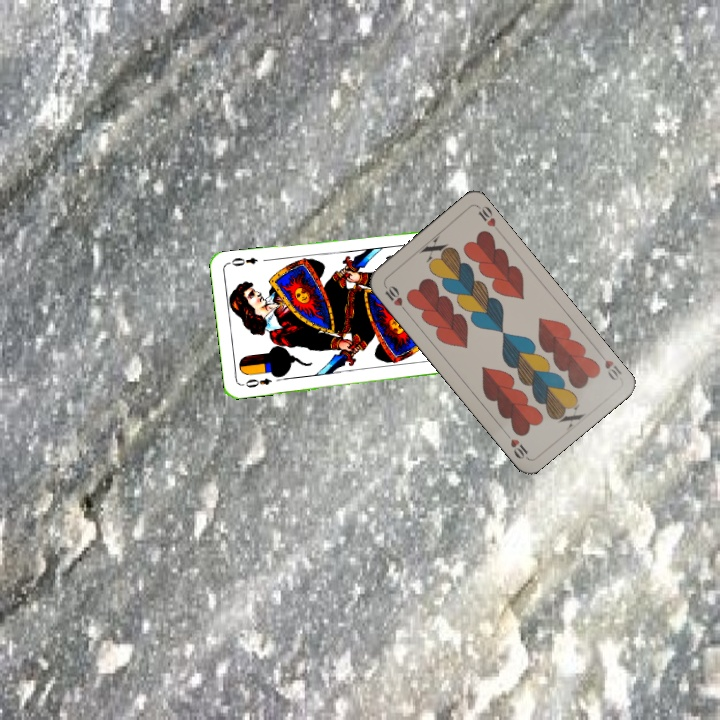EO: (238, 374, 274, 390)
H10: (594, 348, 624, 383), (380, 280, 410, 314)
